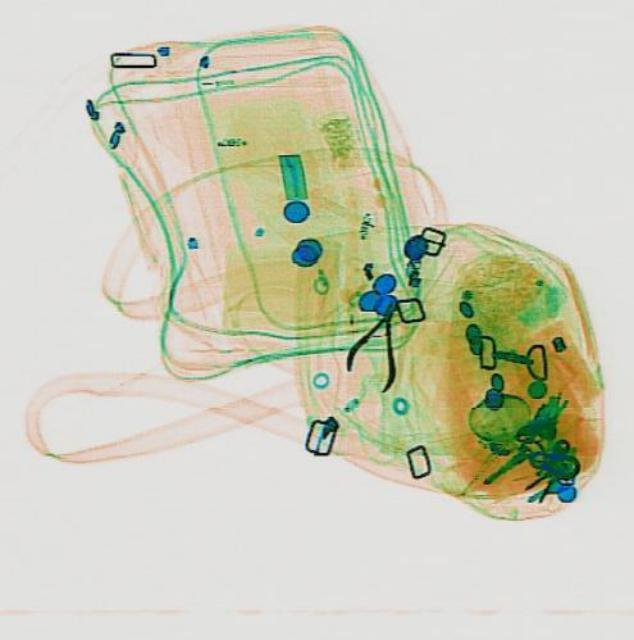Pliers: (336, 294, 416, 394)
